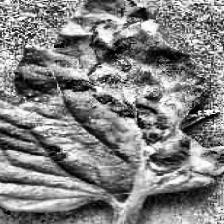disease: (0, 0, 224, 211)
